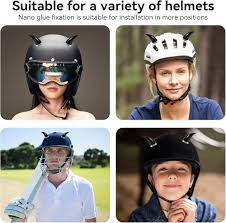helmets: (21, 31, 84, 100), (142, 31, 198, 77), (142, 135, 202, 172), (40, 131, 74, 177)
